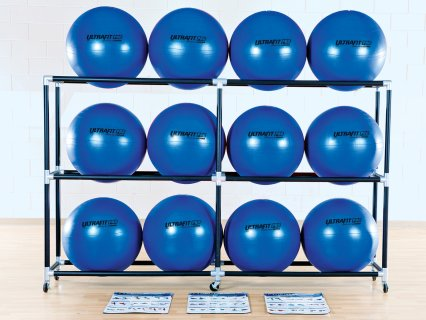blue ball: (66, 6, 149, 90), (64, 102, 147, 184), (307, 10, 388, 91), (146, 102, 226, 184), (228, 9, 307, 91), (150, 7, 228, 90), (305, 105, 385, 185), (226, 105, 304, 185), (142, 194, 218, 271), (223, 198, 300, 273), (62, 196, 139, 271), (302, 198, 379, 272)
